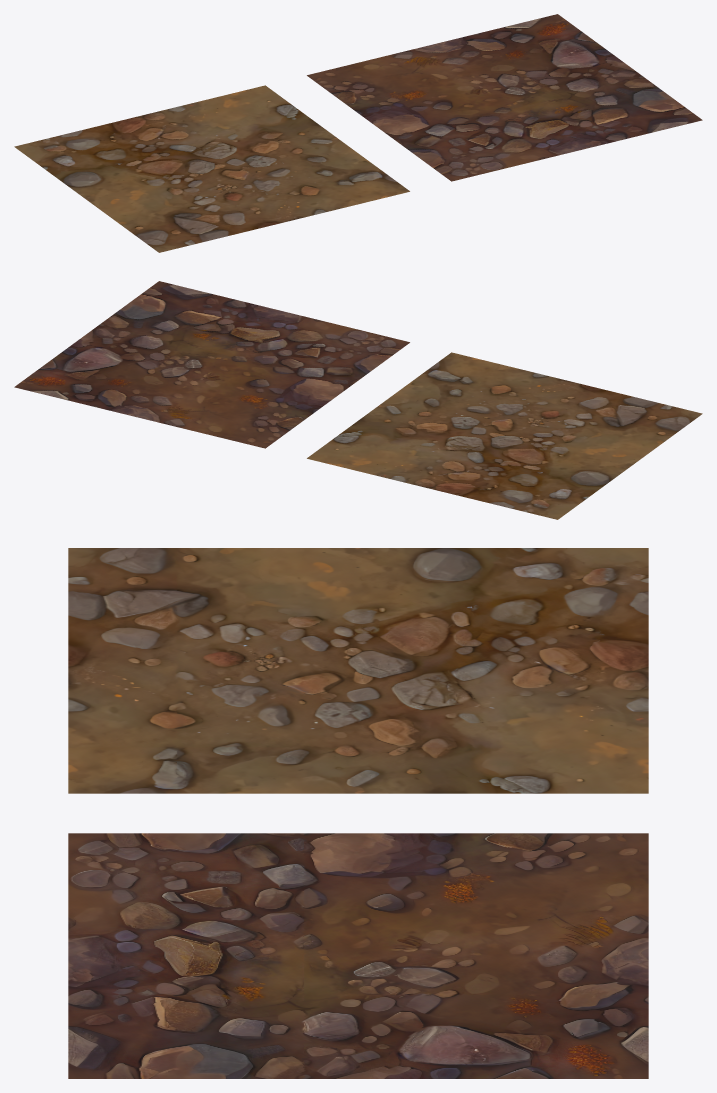
Rendered from ground_earth__rocks_2_free_textures_handpaint.glb.
3 views of the same model, one above another, from view 1: azimuth 30°, elevation 25°; view 2: azimuth 150°, elevation 25°; view 3: azimuth 270°, elevation 25° (orthographic). The views are drawn at different scales.
Visible parts, largest first — view 1: Quad__207_, Quad__200_; view 2: Quad__207_, Quad__200_; view 3: Quad__207_, Quad__200_.
Part boxes in pixels (bbox=[...]): Quad__207_: bbox=[307, 14, 702, 181]; Quad__200_: bbox=[14, 85, 409, 252]; Quad__207_: bbox=[14, 281, 409, 448]; Quad__200_: bbox=[307, 352, 702, 519]; Quad__207_: bbox=[68, 833, 648, 1078]; Quad__200_: bbox=[68, 548, 648, 793].
Bounding box in the file's own units: 2.16 × 6.12e-17 × 1.
Materials: 2 (2 with a texture image).
